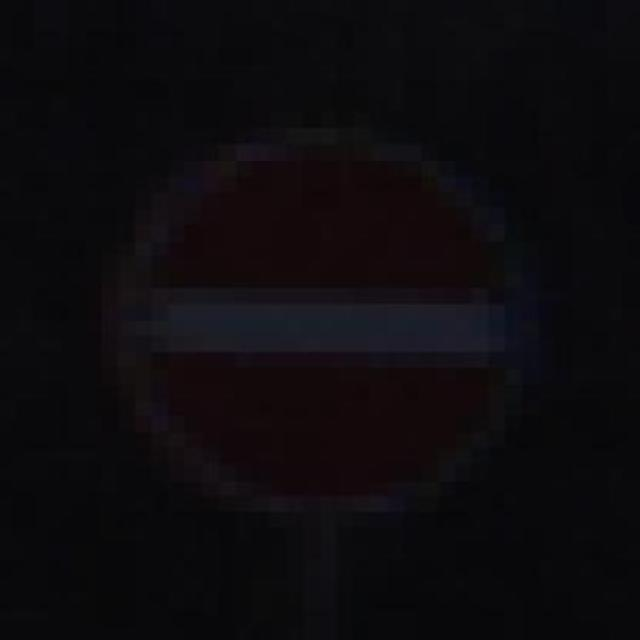B2: (101, 121, 526, 511)
